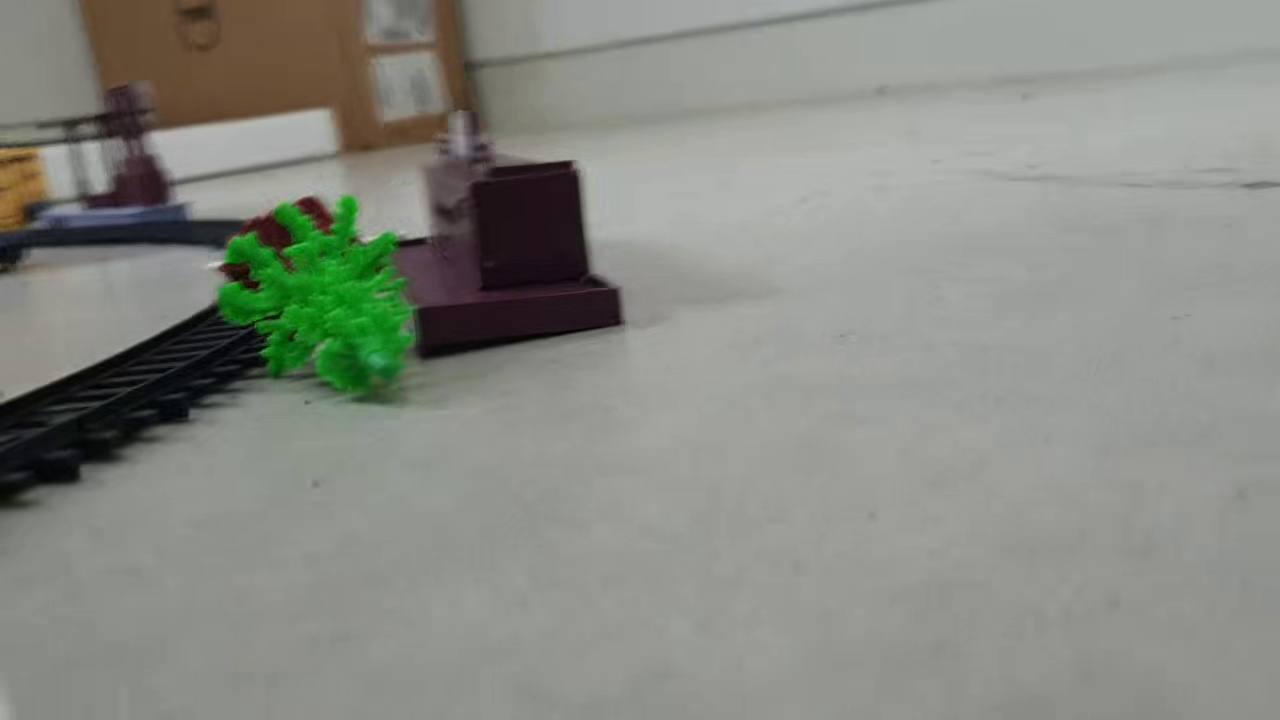tree: (215, 193, 425, 404)
